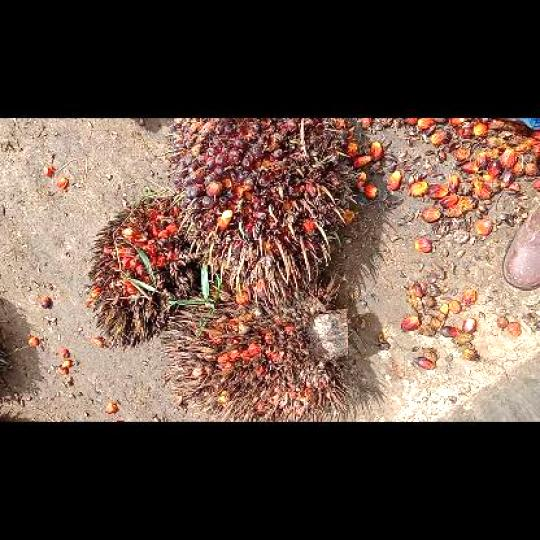masak: (168, 119, 360, 310)
terlalu masak: (158, 281, 356, 420), (86, 192, 194, 353)
